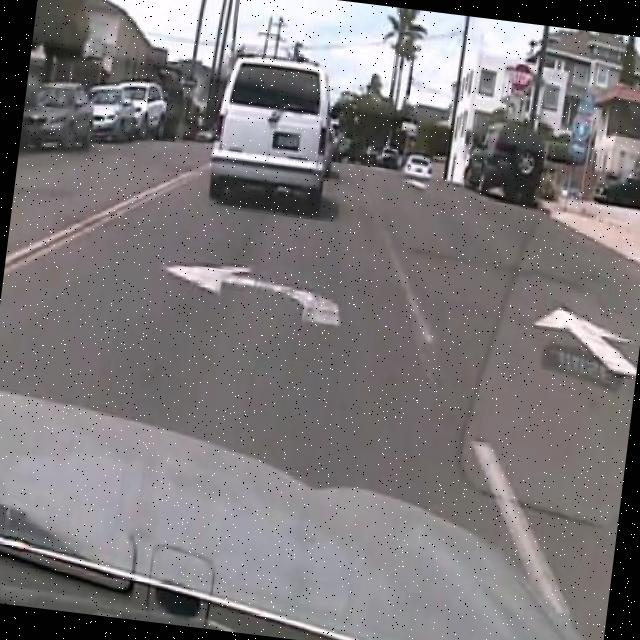Stop: (507, 60, 537, 95)
